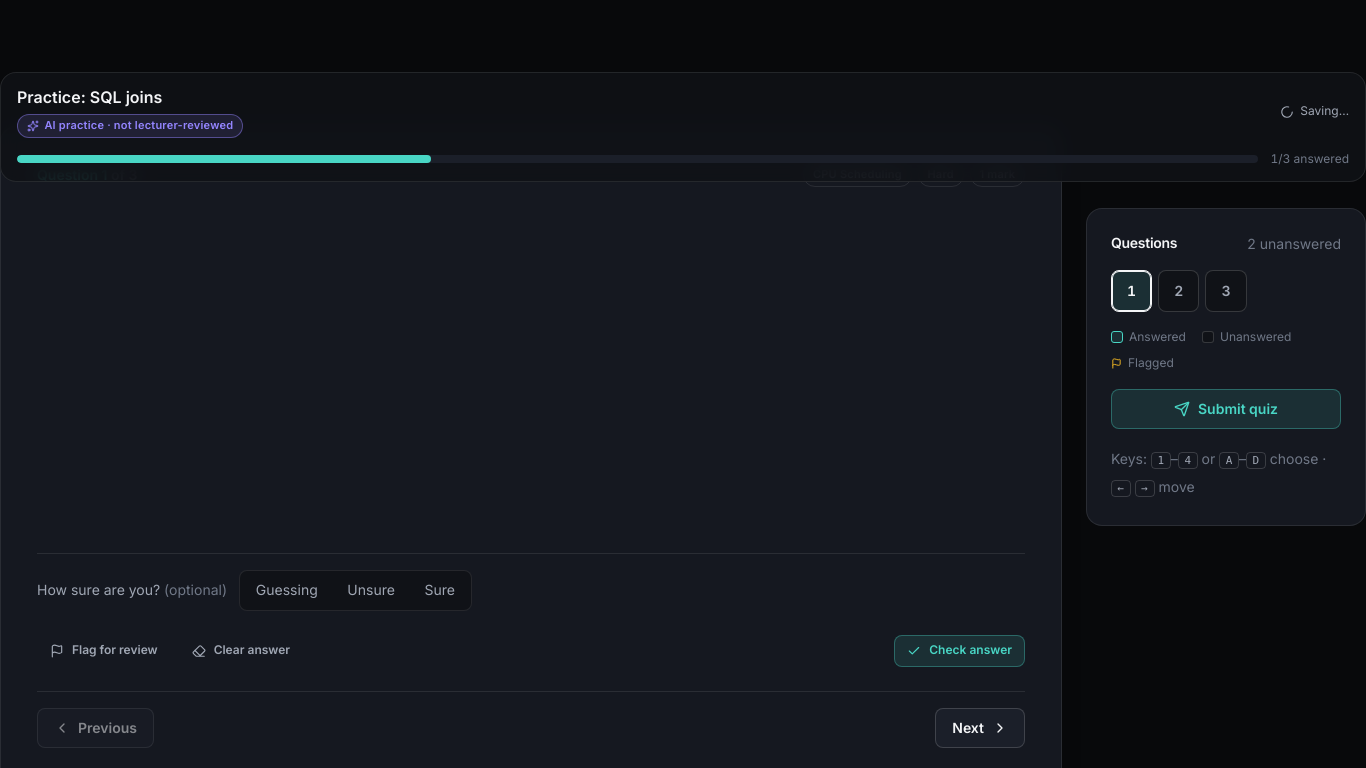
Test: QuizPlayer › practice mode: Check reveals the key and locks the answer
Earlier steps of the test are not shown.
Later steps or results of the test are not shown.
Click the button "Sure": point(440, 590) [412,574,468,607]
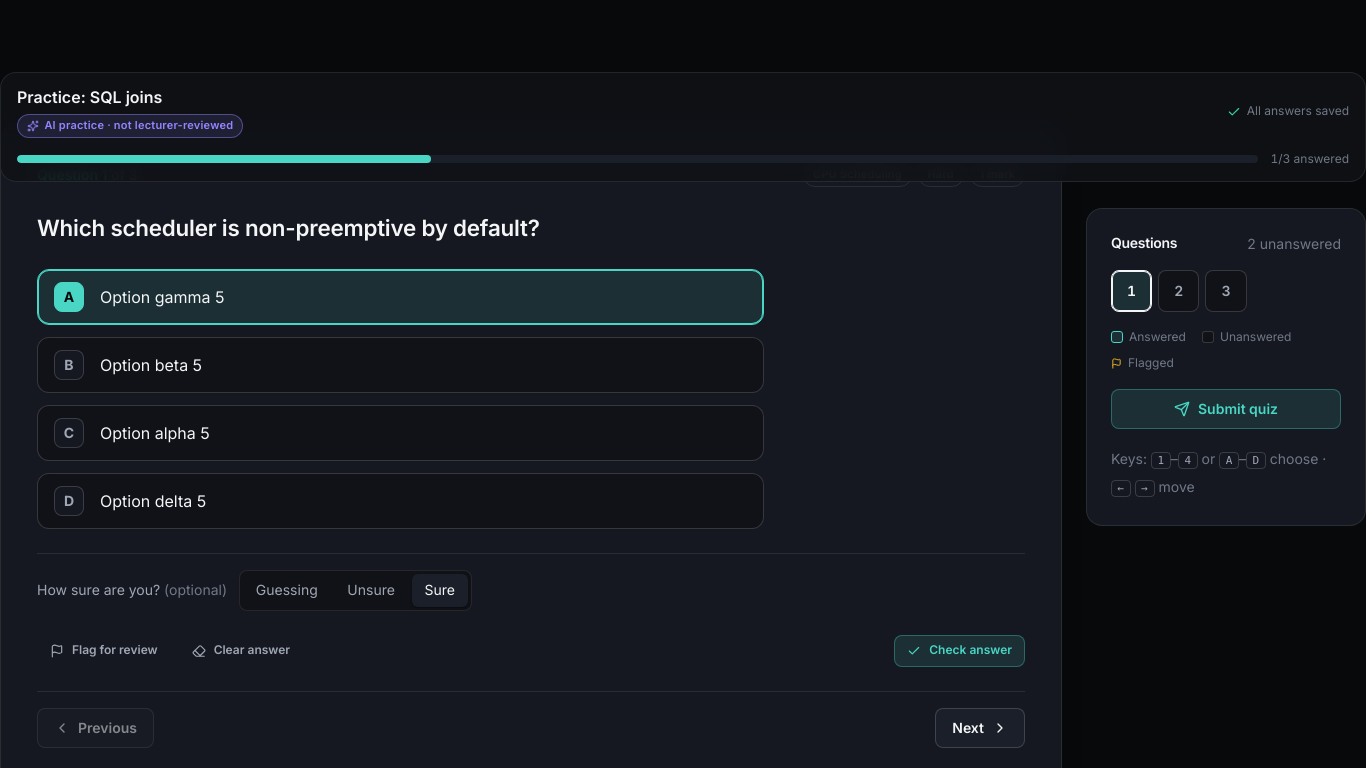
Click the button "Check answer": point(960, 651) [894,635,1025,667]
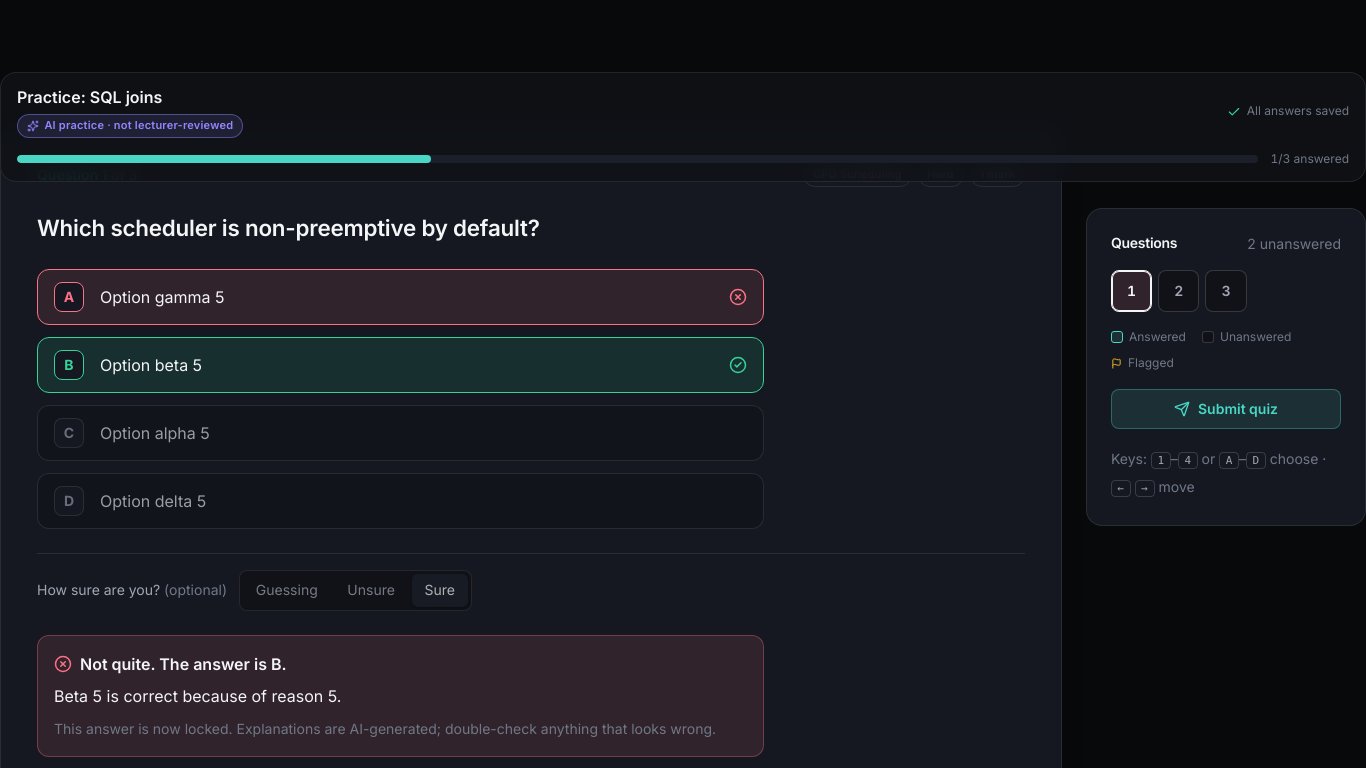
Result: the text "Not quite. The answer is B." is shown at [54,654,287,674]
Result: the text "Beta 5 is correct because of reason 5." is shown at [54,686,341,706]
